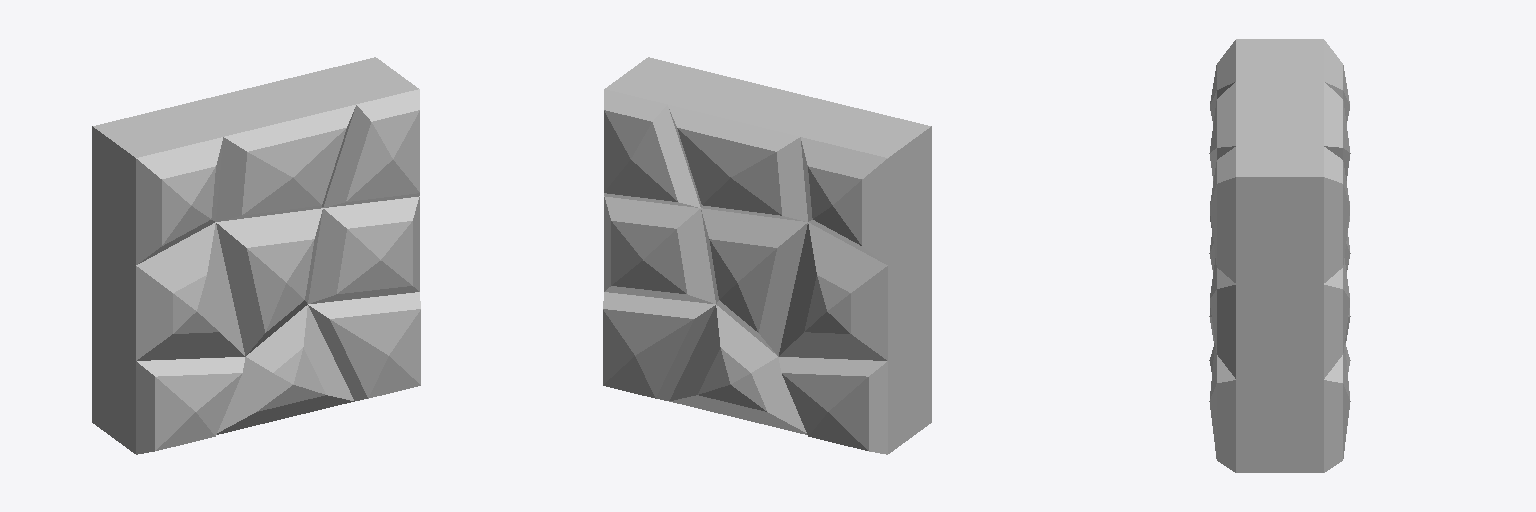
The model's file is rockWall.obj.
3 renders of one model, left to right at view 1: azimuth 30°, elevation 25°; view 2: azimuth 150°, elevation 25°; view 3: azimuth 270°, elevation 25°, orthographic.
Parts seen in each view (by area): view 1: Cube; view 2: Cube; view 3: Cube.
Boxes of the visible parts, x1,y1,x2,y2 form: Cube: [92, 57, 420, 454]; Cube: [603, 57, 931, 454]; Cube: [1209, 39, 1350, 472].
Bounding box in the file's own units: 6 × 6 × 2.59.